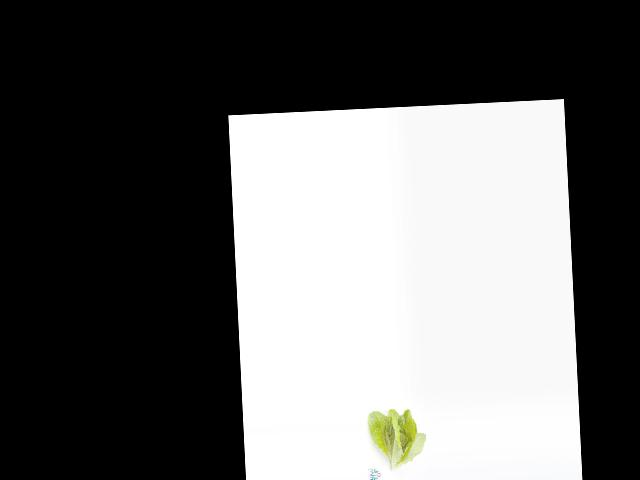lettuce: (368, 405, 428, 471)
